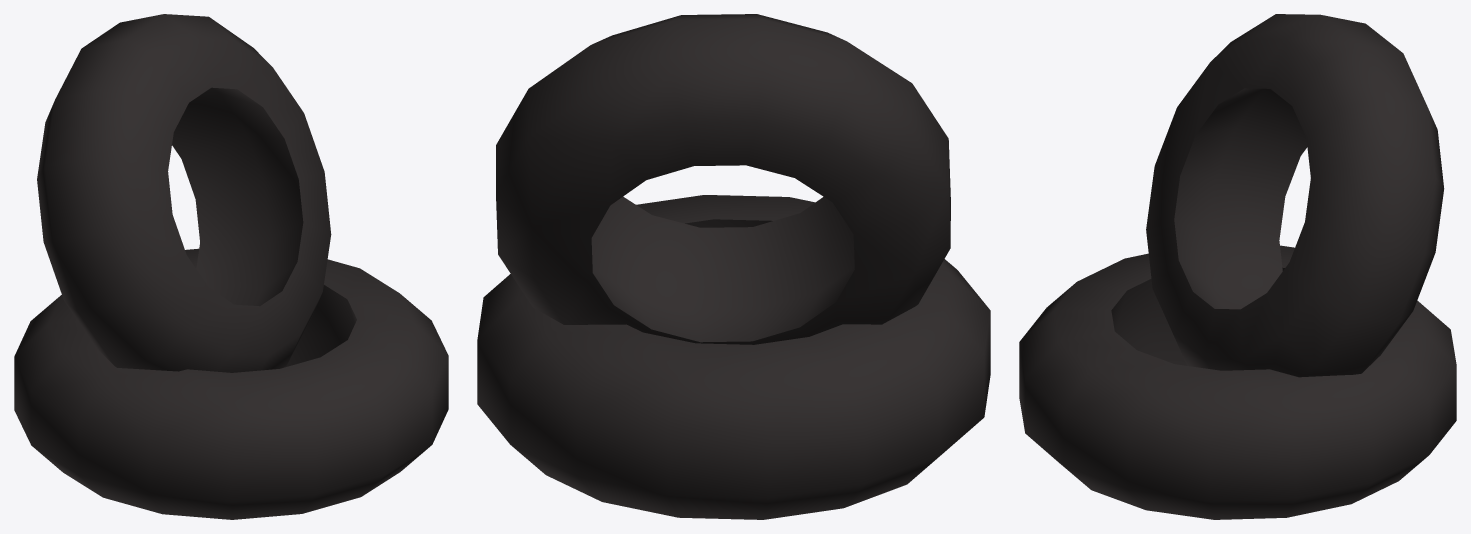
The model's file is Tires.fbx.
The picture shows the model from 3 angles, left to right: view 1: azimuth 30°, elevation 25°; view 2: azimuth 150°, elevation 25°; view 3: azimuth 270°, elevation 25°; orthographic projection. The views are drawn at different scales.
Parts seen in each view (by area): view 1: Tires; view 2: Tires; view 3: Tires.
Part boxes in pixels (x1,y1,x2,y2): Tires: (14,14,448,519); Tires: (477,14,990,519); Tires: (1019,14,1456,519).
Bounding box in the file's own units: 71.35 × 71.69 × 71.36.
